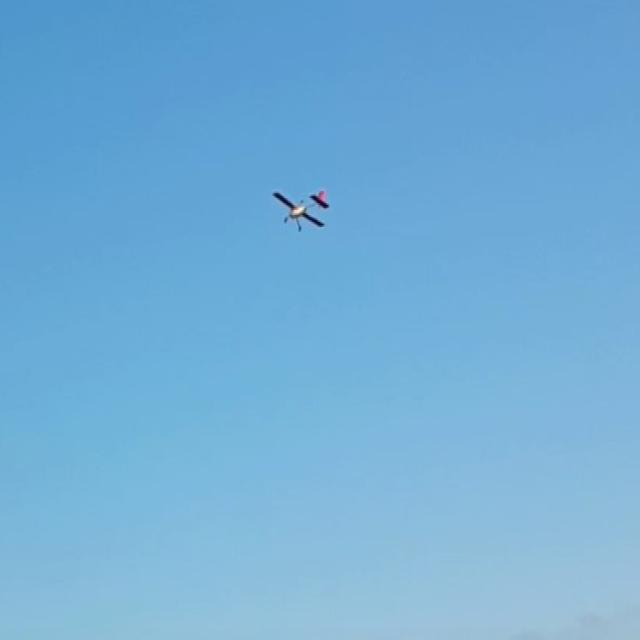iha: (272, 191, 330, 232)
